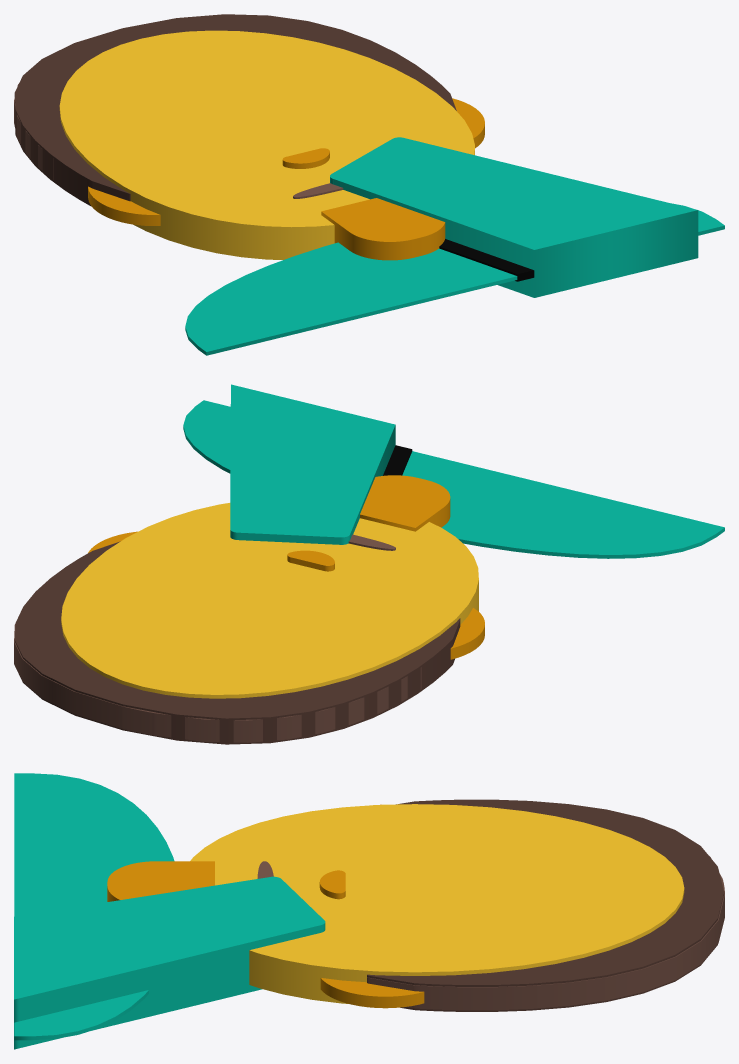
The model's file is emoji_u1f926_200d_2642.glb.
3 views of the same model, one above another, from view 1: azimuth 30°, elevation 25°; view 2: azimuth 150°, elevation 25°; view 3: azimuth 270°, elevation 25° (orthographic). The views are drawn at different scales.
Parts seen in each view (by area): view 1: emoji_u1f926_200d_2642; view 2: emoji_u1f926_200d_2642; view 3: emoji_u1f926_200d_2642.
Part boxes in pixels (bbox=[...]): emoji_u1f926_200d_2642: bbox=[14, 14, 724, 355]; emoji_u1f926_200d_2642: bbox=[14, 384, 724, 744]; emoji_u1f926_200d_2642: bbox=[14, 773, 724, 1049].
Size of the model in its own units: 0.0294 by 0.0026 by 0.0335.
